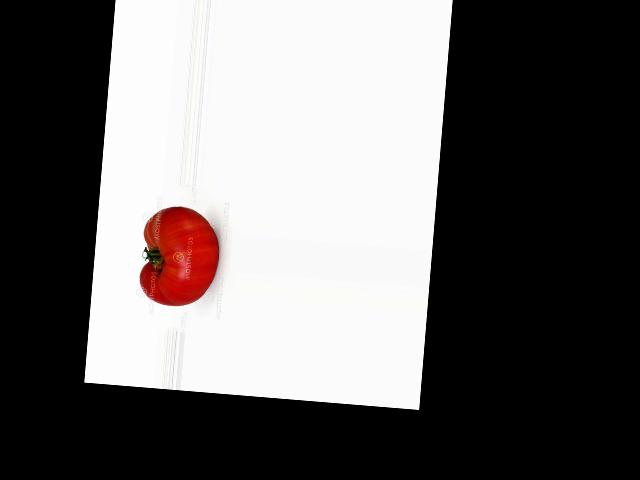tomato: (137, 203, 222, 308)
